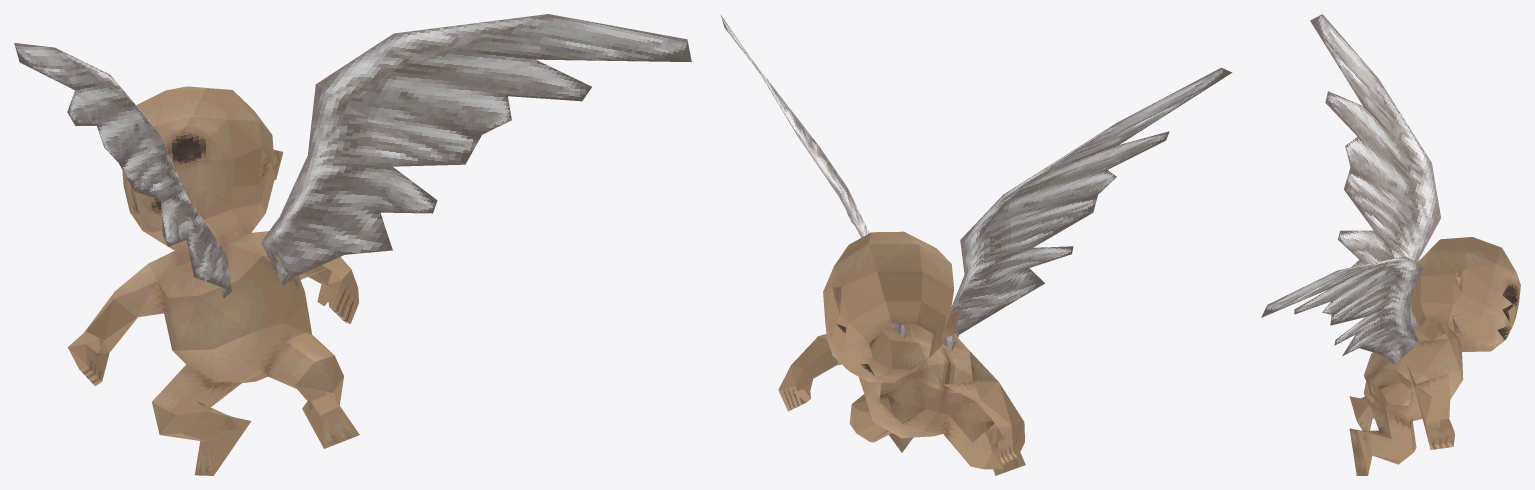
Rendered from ps2_save-icons_baroque.glb.
3 views of the same model, side by side, from view 1: azimuth 30°, elevation 25°; view 2: azimuth 150°, elevation 25°; view 3: azimuth 270°, elevation 25° (orthographic). The views are drawn at different scales.
Visible parts, largest first — view 1: ICON; view 2: ICON; view 3: ICON.
Boxes of the visible parts, left/top/right/bottom form: ICON: left=14, top=14, right=691, bottom=475; ICON: left=720, top=14, right=1232, bottom=475; ICON: left=1261, top=14, right=1520, bottom=475.
Size of the model in its own units: 3.84 by 2.97 by 2.
1 material, 1 textured.
